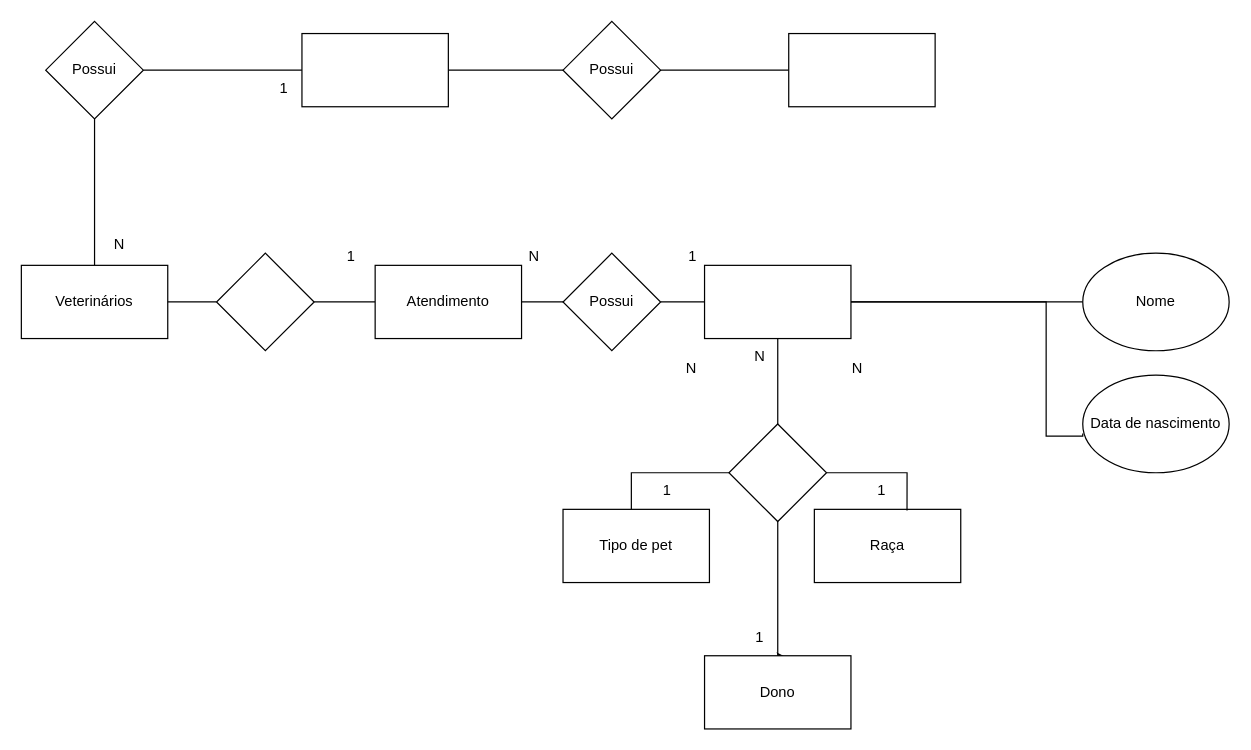
The diagram is 1251 pixels wide and 750 high, and some of its shapes have lost their labels. The shapes that lost their labels are listed below. From the top down, each one's centre as x and y in pixels, then its label:
At pixel 374 69: ":Clínica".
At pixel 861 69: "Endereço".
At pixel 264 301: "Realizam".
At pixel 777 301: "Pets".
At pixel 777 472: "Possuem".
